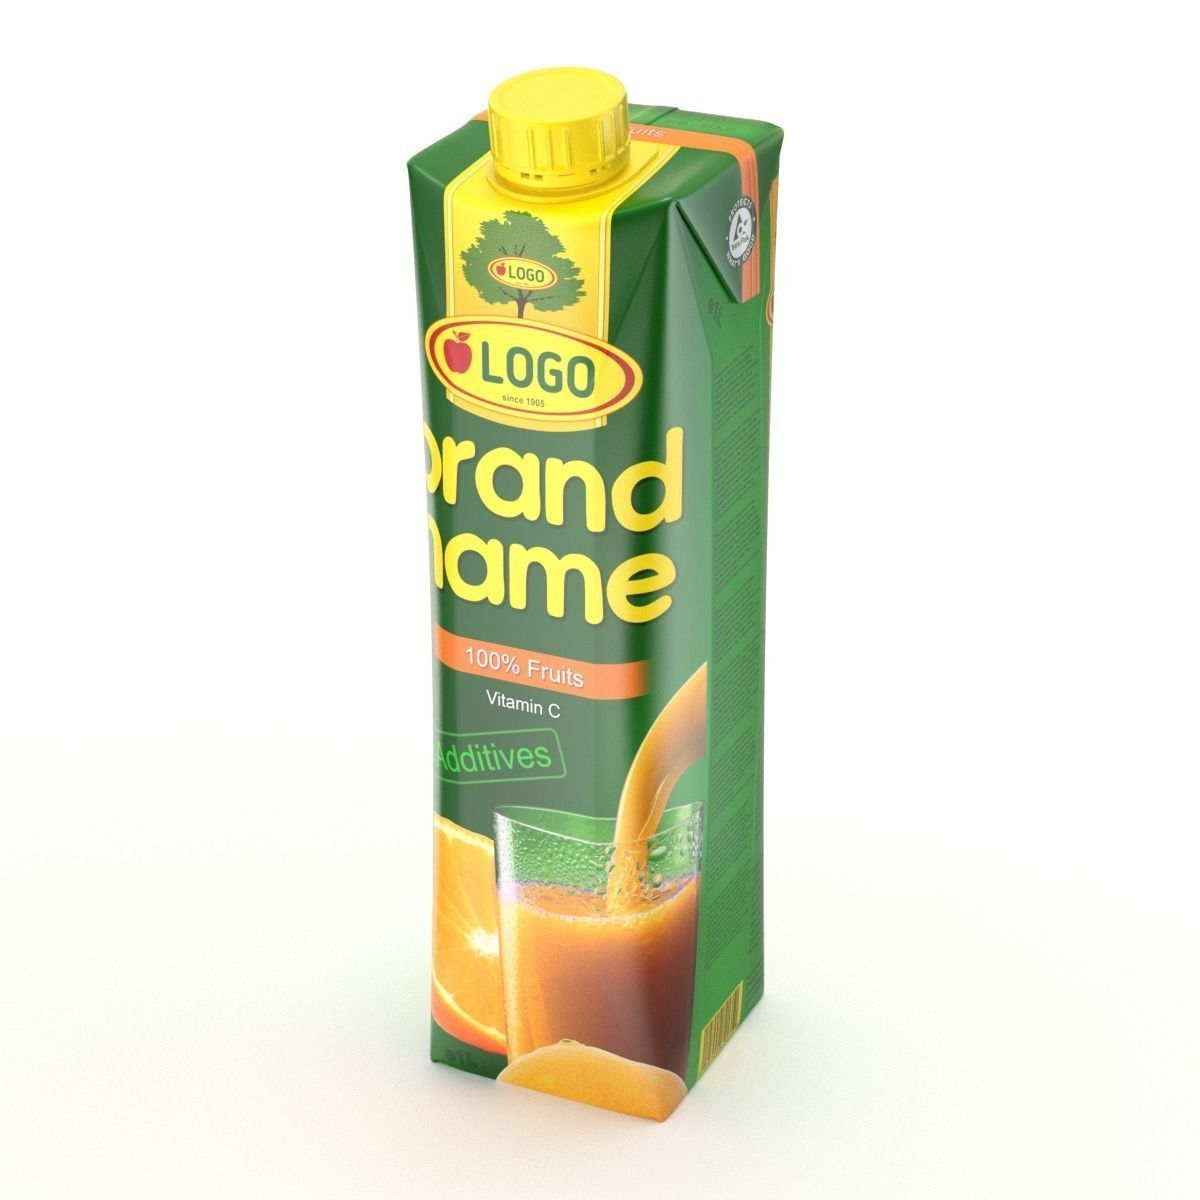Rec_Paper: (369, 25, 792, 1138)
